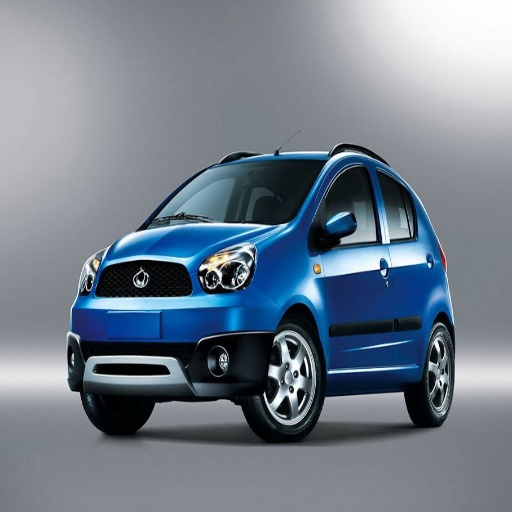front_bumper: (67, 256, 277, 399)
front_glass: (143, 159, 323, 227)
front_left_door: (312, 155, 395, 369)
